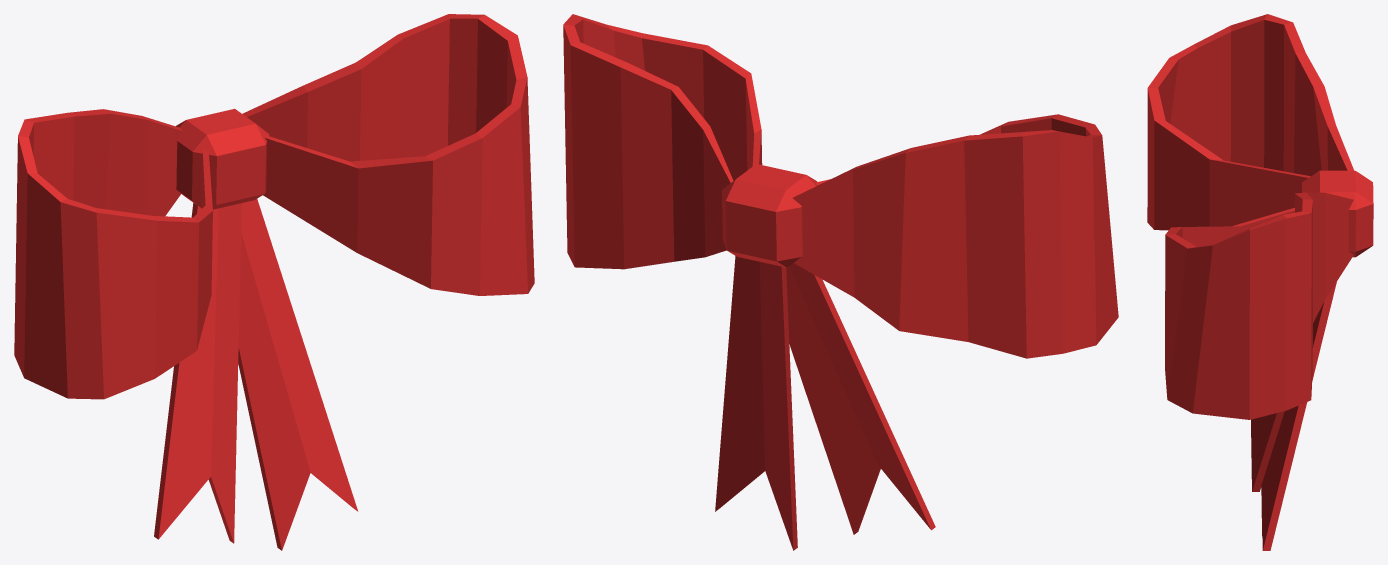
File: Isl_16_Bow_1.fbx
The picture shows the model from 3 angles, left to right: view 1: azimuth 30°, elevation 25°; view 2: azimuth 150°, elevation 25°; view 3: azimuth 270°, elevation 25°; orthographic projection. The views are drawn at different scales.
Visible parts, largest first — view 1: Isl_16_Bow_1; view 2: Isl_16_Bow_1; view 3: Isl_16_Bow_1.
Part boxes in pixels (x1,y1,x2,y2): Isl_16_Bow_1: (14, 14, 534, 550); Isl_16_Bow_1: (563, 14, 1118, 550); Isl_16_Bow_1: (1147, 14, 1373, 550).
Bounding box in the file's own units: 127 × 57.13 × 115.
1 material, 1 textured.
